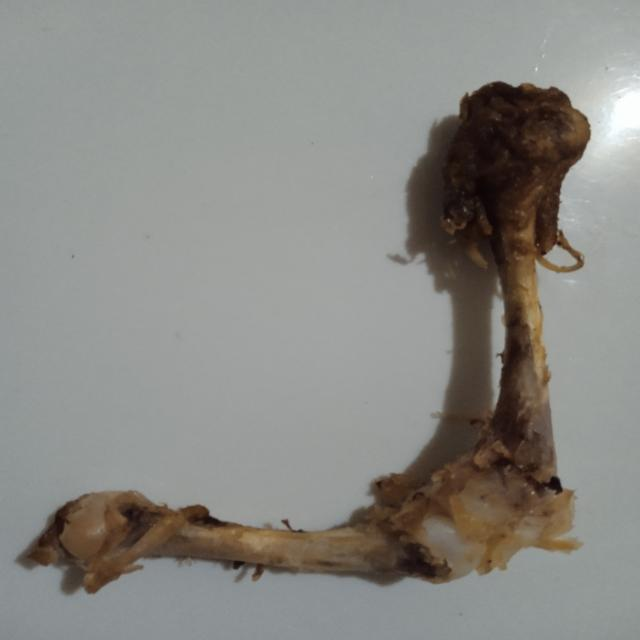bone: (0, 70, 632, 610)
